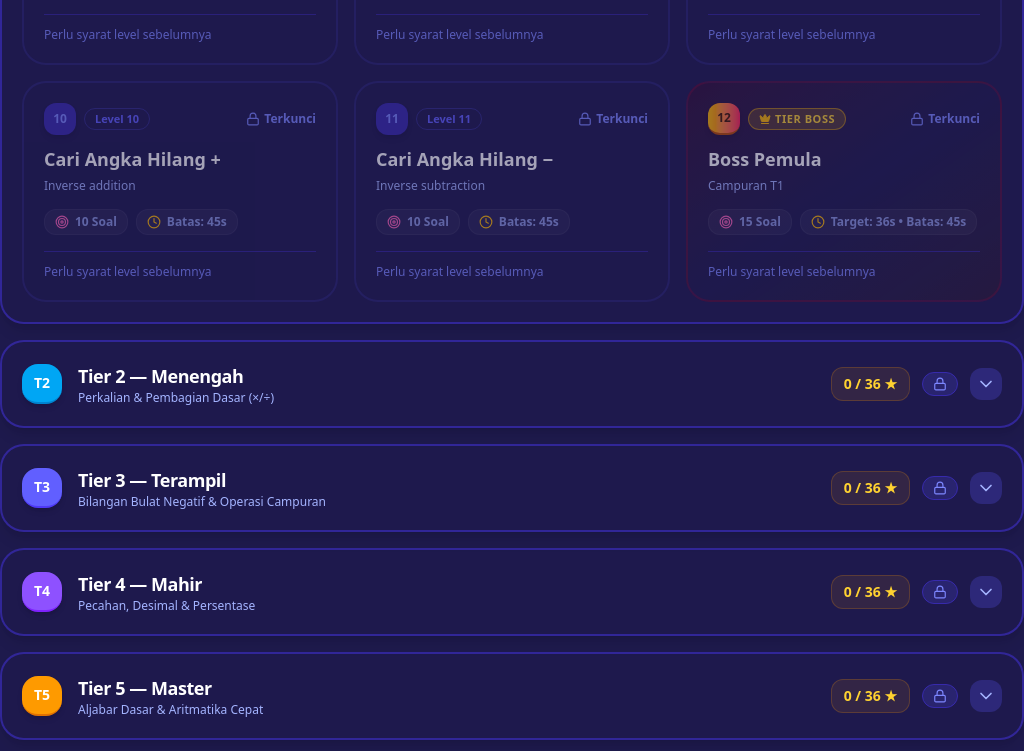
LevelMap 6-Tier Accordion (Spec §3) › toggles accordion tier collapse when clicking header
The width and height of the screenshot is (1024, 751).
(page scrolled)
Click the button "Tier 2".
click(42, 384)  # box [2,342,1022,426]
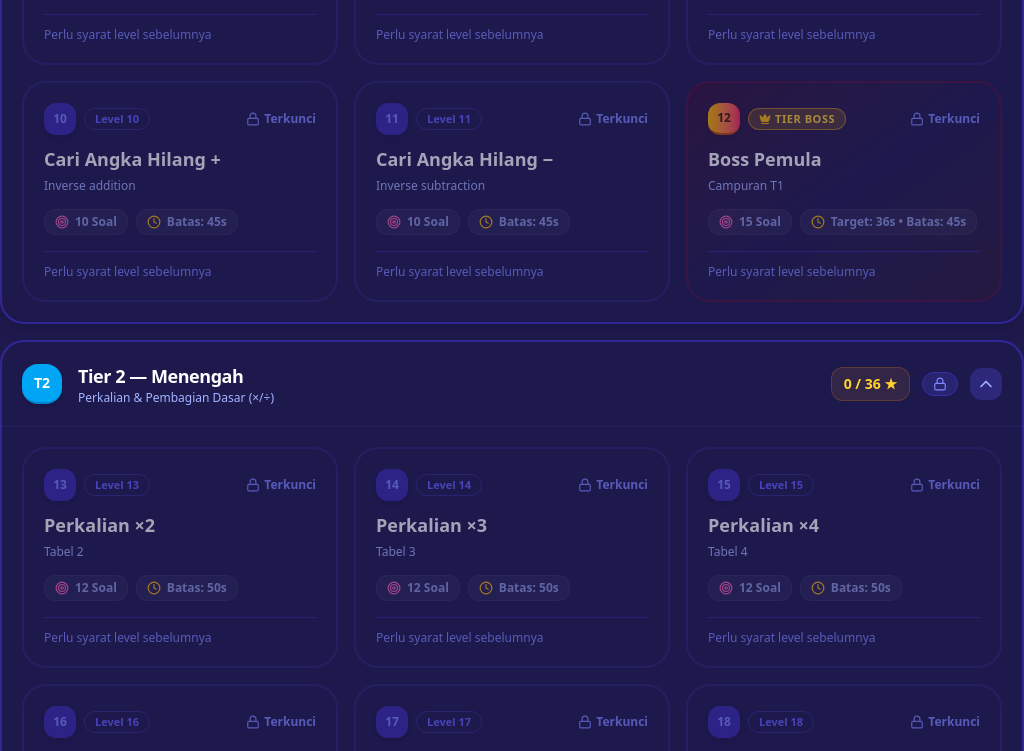
Expected: the button "Tier 2" is expanded, [2,342,1022,426]
